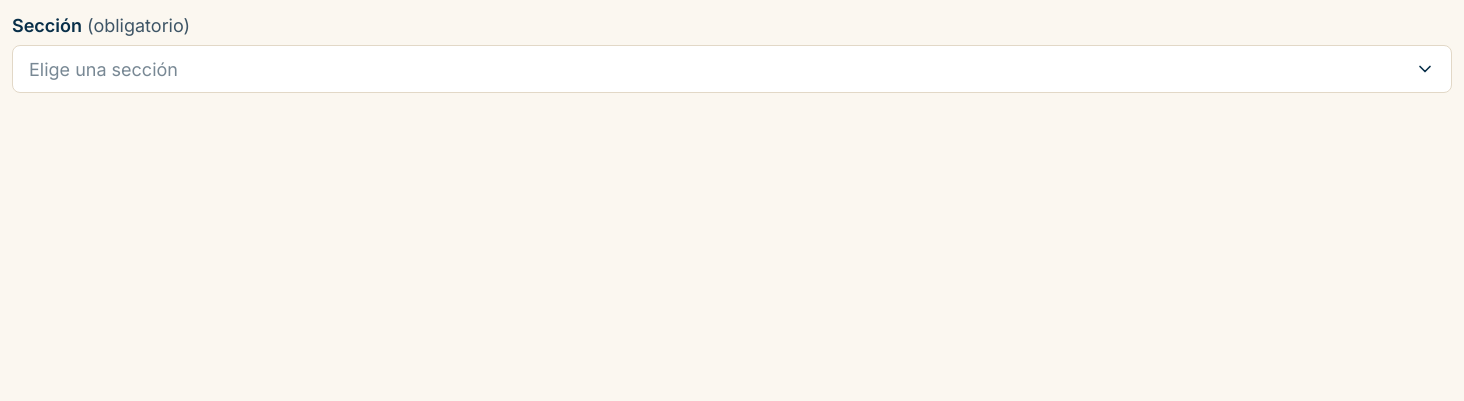
Scenario: SectionPicker › un nombre repetido elige la que ya existe y no duplica
The width and height of the screenshot is (1464, 401).
Click the button "Elige una sección" at (103, 69), box x1=12 y1=45 x2=1452 y2=93
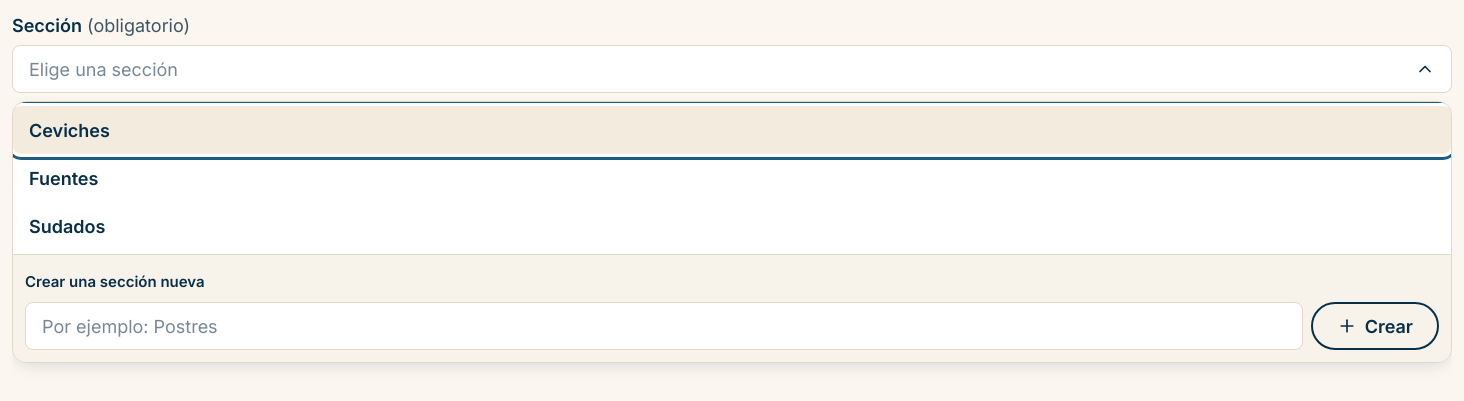
Type "ceviches" into the field labelled "Crear una sección nueva" at (664, 326), box x1=25 y1=302 x2=1303 y2=350
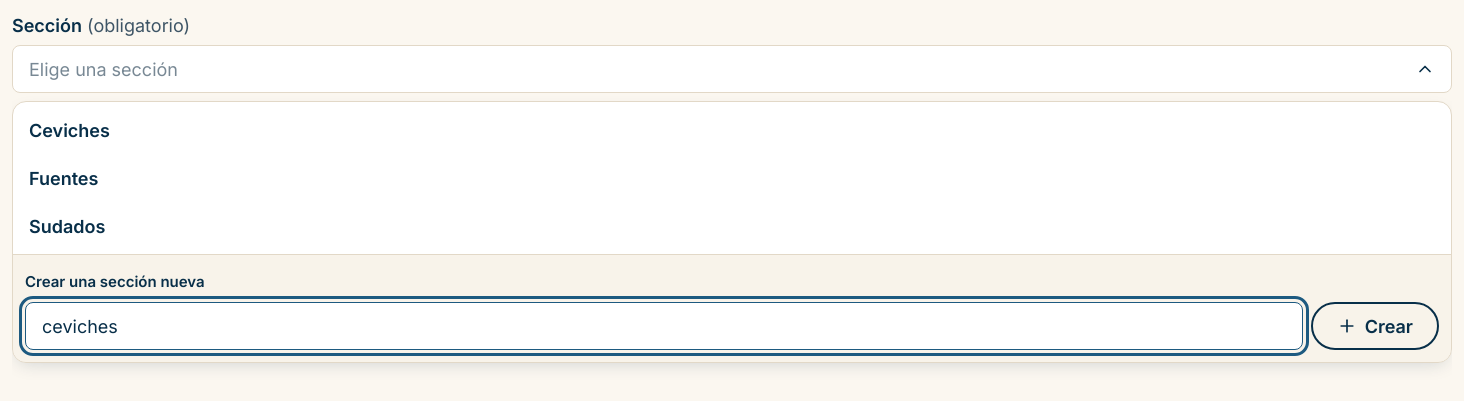
Click the button "Crear" at (1375, 326), box x1=1311 y1=302 x2=1439 y2=350
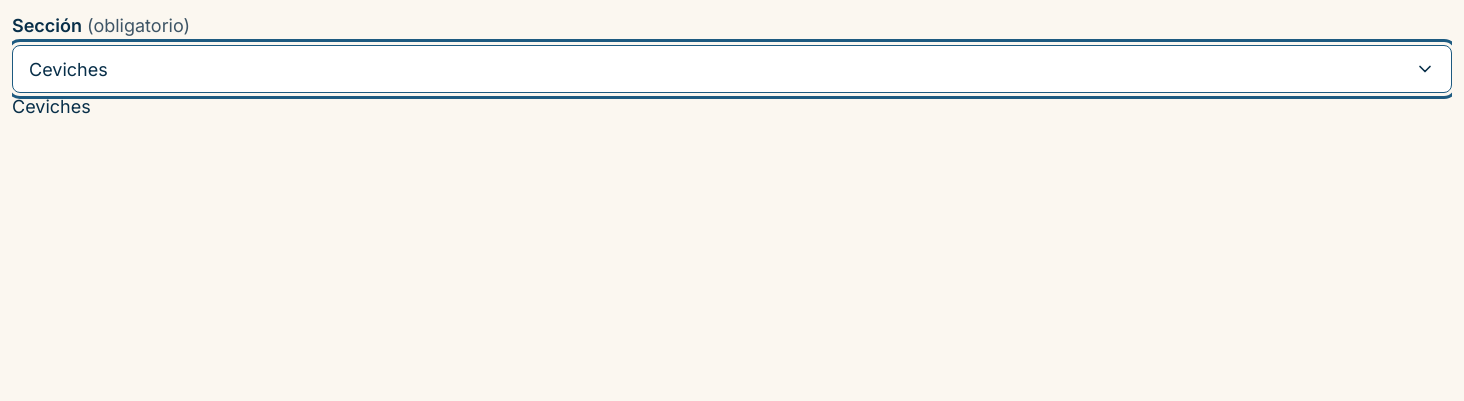
Expected: the text with test id "valor" reads "Ceviches", x1=12 y1=96 x2=91 y2=117
Click the button named "Sección" at (68, 69), box x1=12 y1=45 x2=1452 y2=93
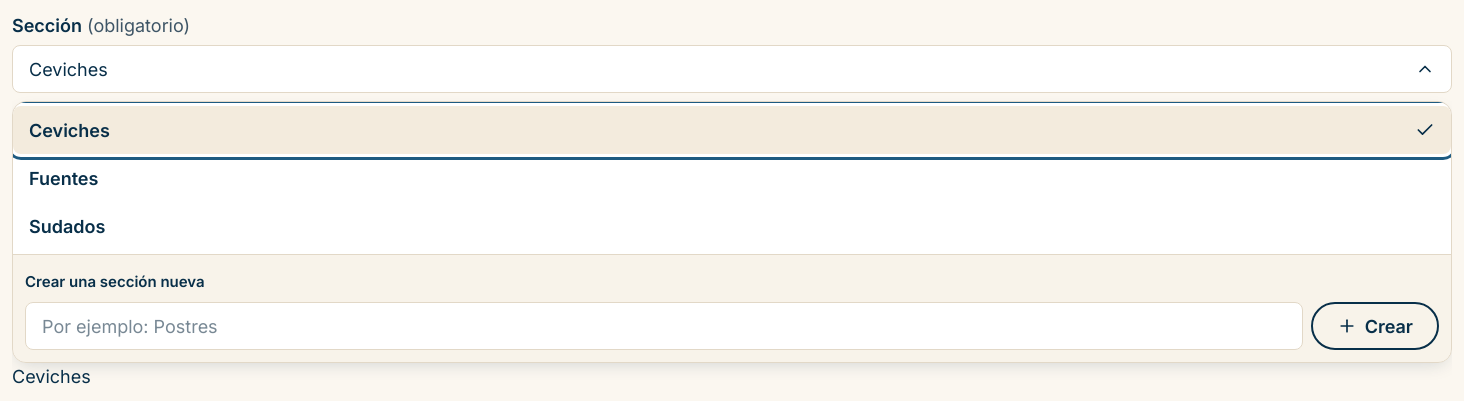
Expected: the number of options "Ceviches" is 1, x1=13 y1=106 x2=1451 y2=154
